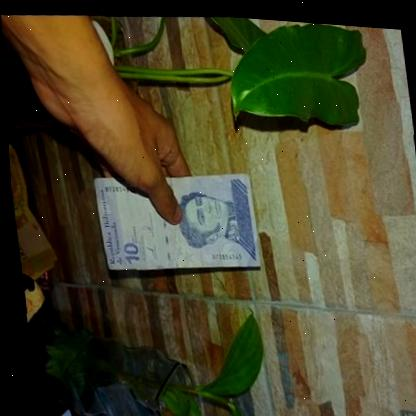ten-front-vef: (90, 160, 260, 277)
